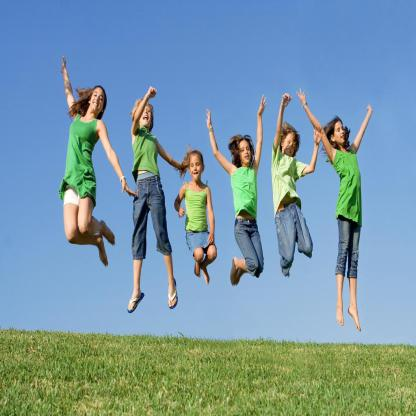face: (91, 89, 105, 114), (191, 155, 203, 182), (285, 132, 297, 157), (240, 141, 251, 164), (140, 106, 152, 126), (335, 121, 345, 144)
